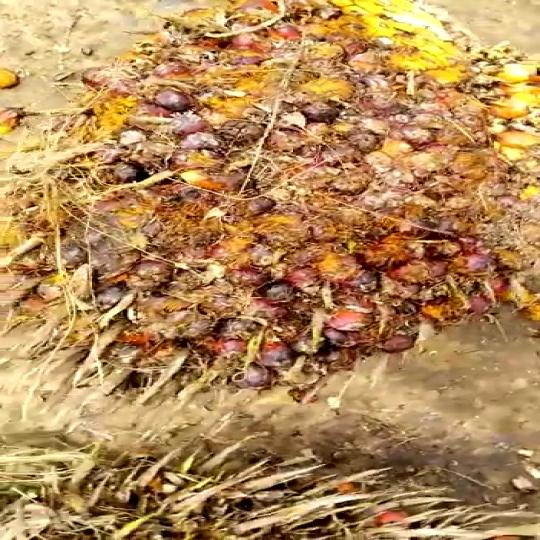masak: (0, 0, 540, 411)
